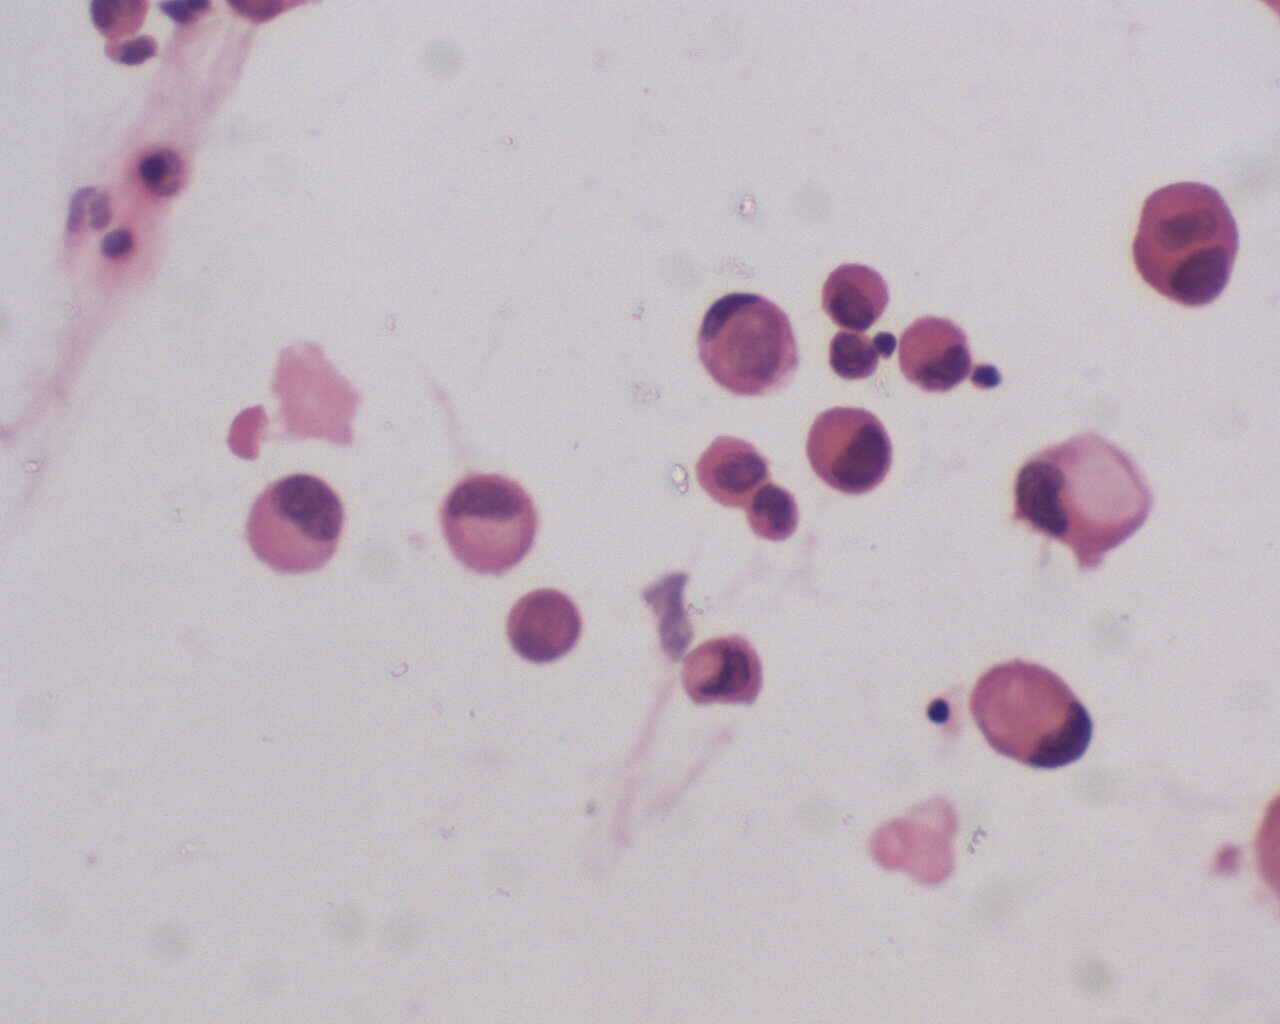ab: (243, 471, 345, 576), (505, 585, 586, 669), (816, 265, 897, 341), (696, 429, 768, 512)
histo: (693, 289, 800, 396), (439, 469, 540, 577), (802, 402, 897, 496)
